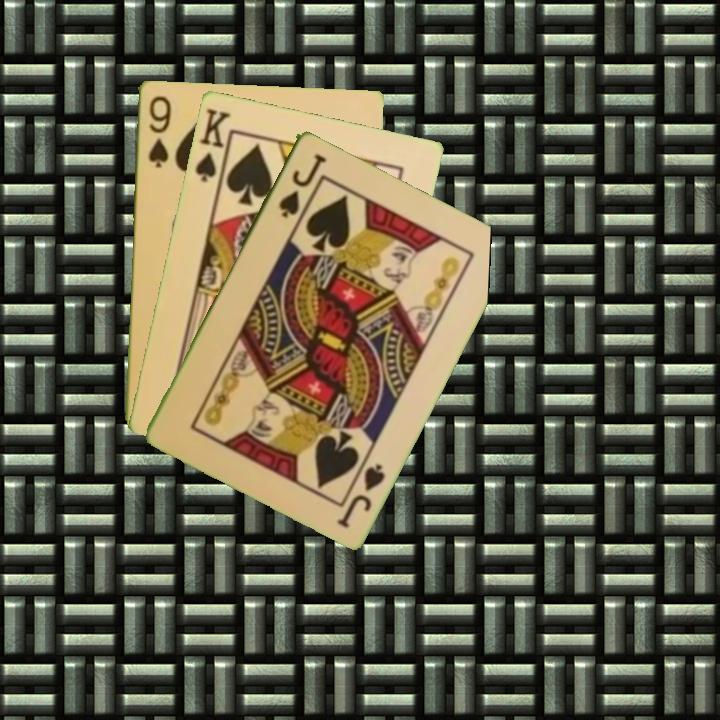9s: (144, 92, 174, 170)
Js: (333, 460, 388, 531), (275, 149, 327, 221)
Ks: (191, 104, 233, 188)
